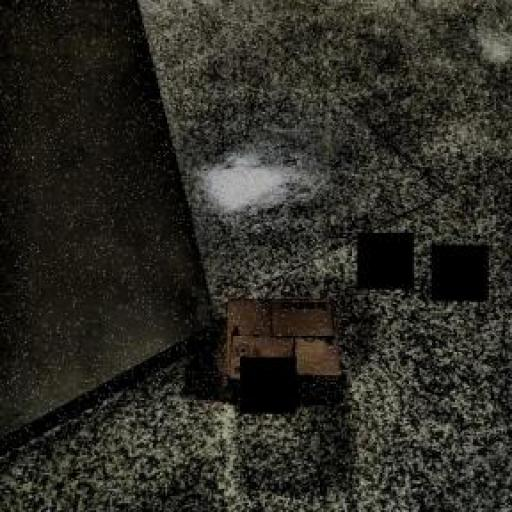box: (215, 276, 372, 426)
